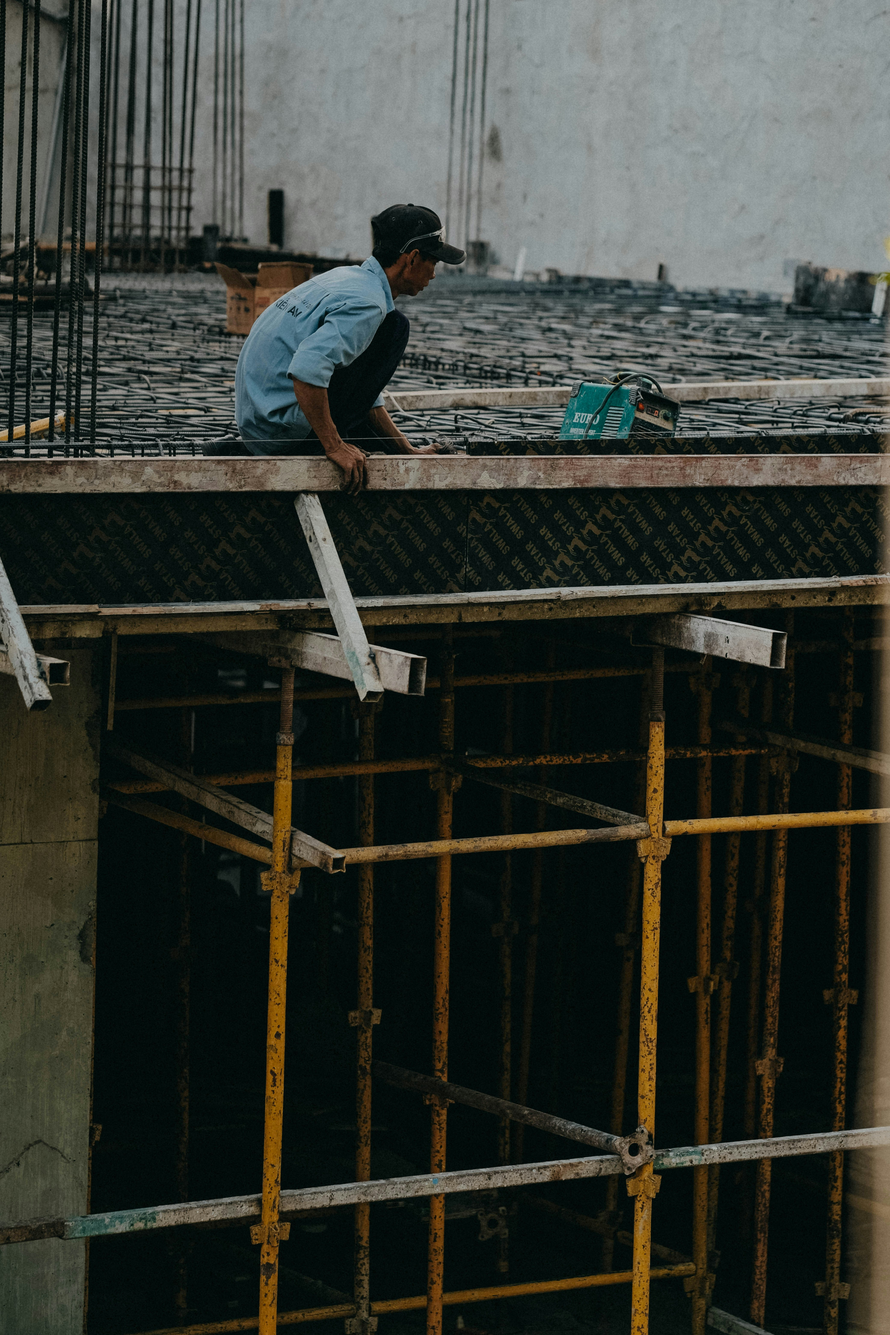No_Helmet: (370, 204, 448, 289)
